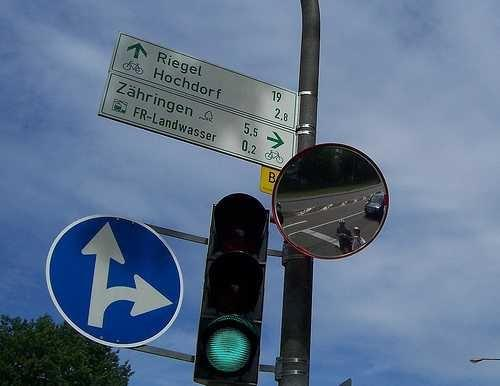green: (202, 186, 263, 386), (202, 311, 260, 383)
